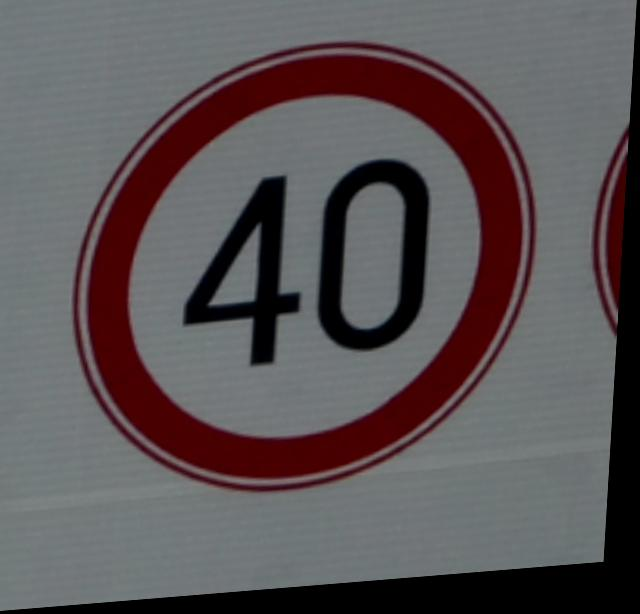limit40: (58, 24, 561, 517)
